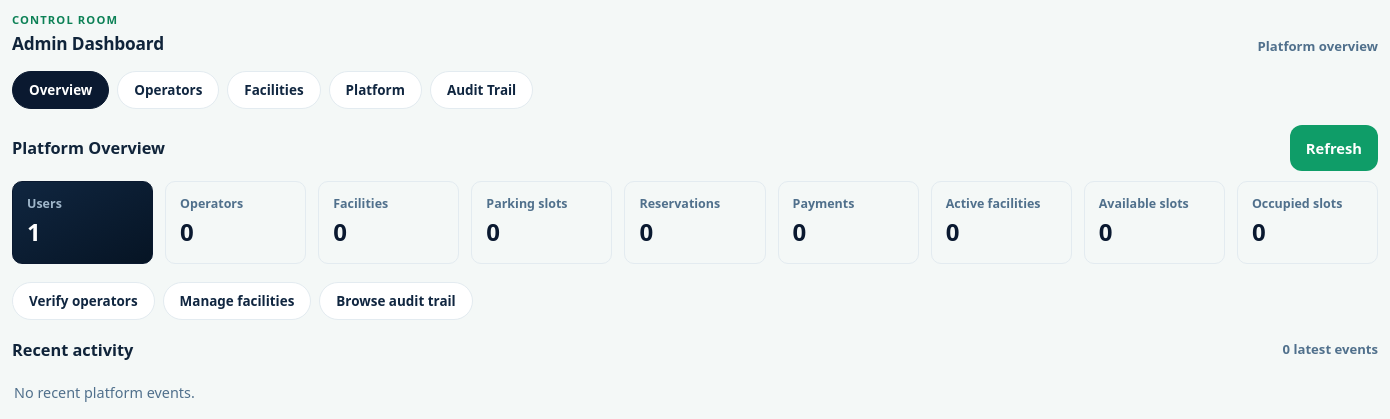
Test: AdminDashboard › shows an empty state when no operators match the filter
Click the button "Operators".
click(168, 90)  # box [117, 71, 219, 109]
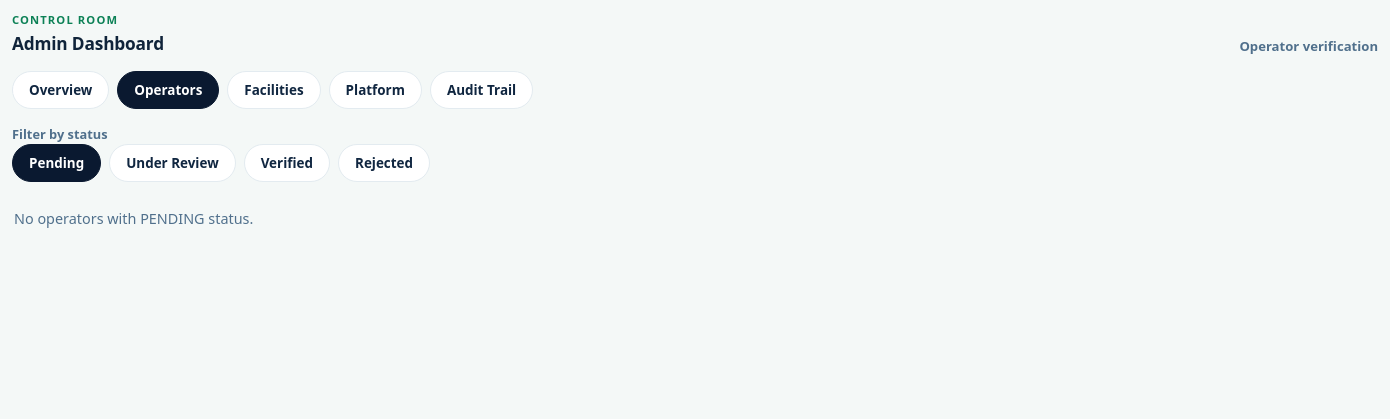
Expected: the text "No operators with PENDING status." is shown, [14, 209, 253, 228]
